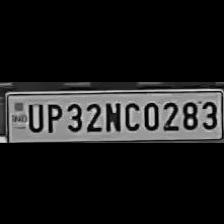0: (142, 97, 160, 130)
2: (82, 98, 102, 132), (159, 97, 179, 130)
3: (198, 96, 218, 130), (64, 98, 82, 132)
8: (179, 97, 199, 130)
C: (122, 97, 140, 130)
N: (102, 97, 122, 131)
P: (44, 100, 62, 132)
U: (24, 99, 42, 131)
